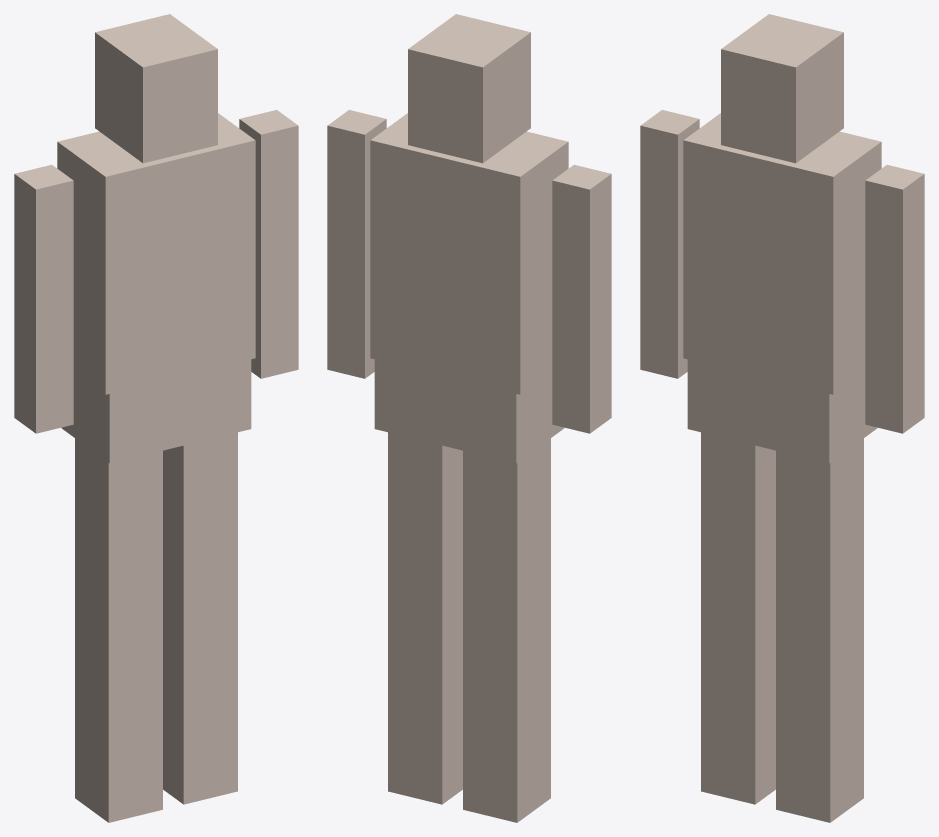
The model's file is body.glb.
3 renders of one model, left to right at view 1: azimuth 30°, elevation 25°; view 2: azimuth 150°, elevation 25°; view 3: azimuth 330°, elevation 25°, orthographic.
Visible parts, largest first — view 1: body; view 2: body; view 3: body.
Boxes of the visible parts, bbox=[...] form: body: bbox=[14, 14, 298, 822]; body: bbox=[327, 14, 611, 822]; body: bbox=[640, 14, 924, 822].
Bounding box in the file's own units: 0.63 × 1.73 × 0.2.
